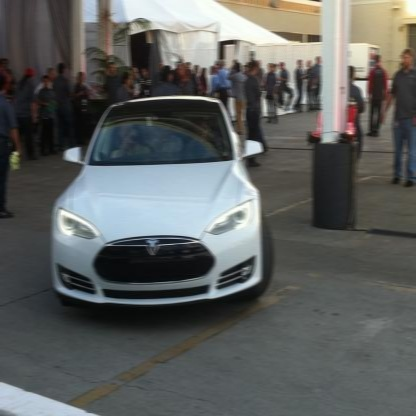Vehicle: (51, 93, 271, 313)
